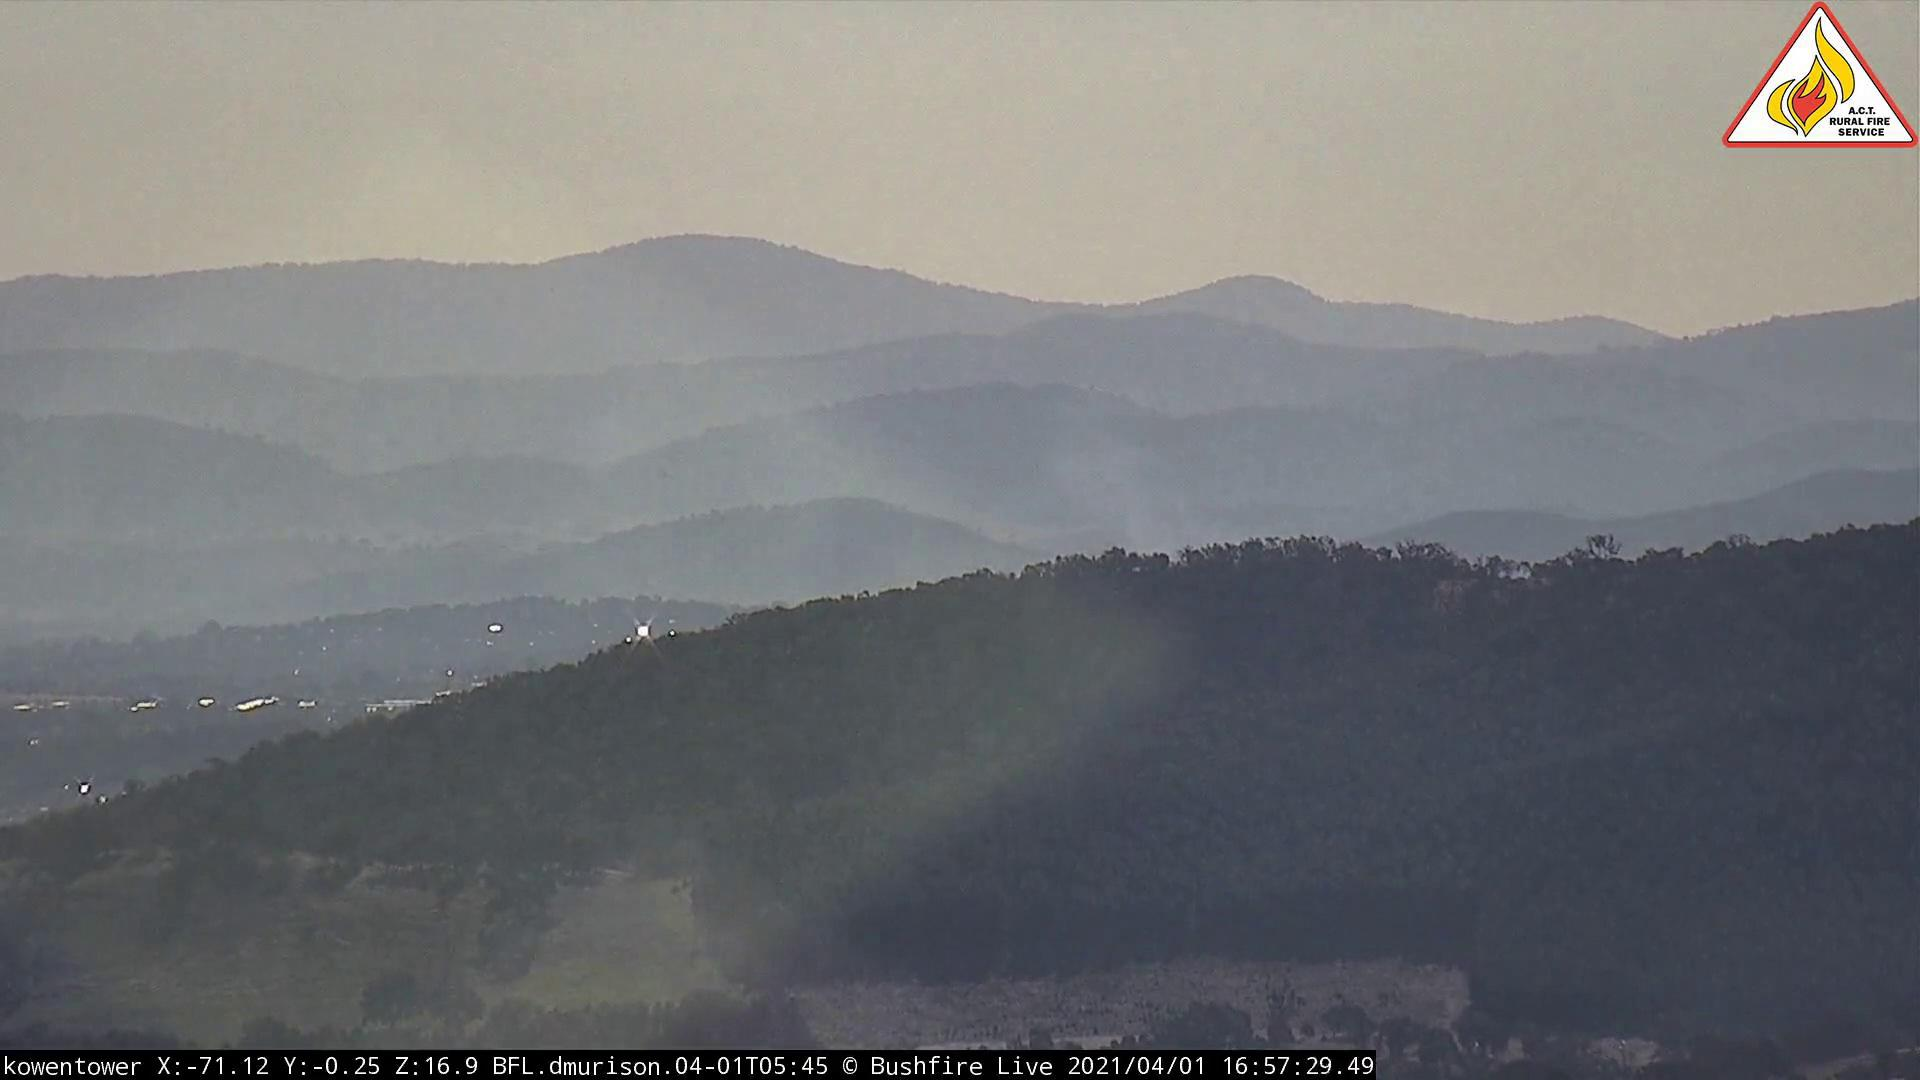Smoke: (858, 390, 1218, 669)
